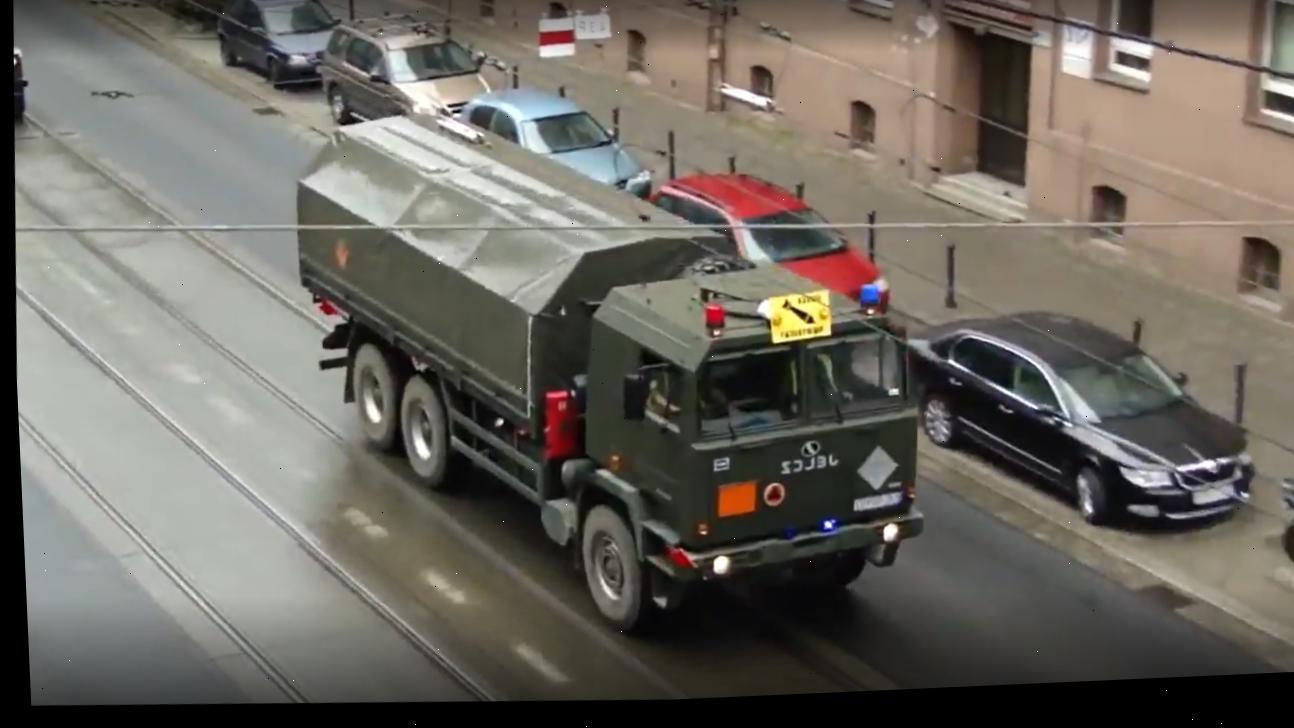truck: (264, 77, 947, 656)
